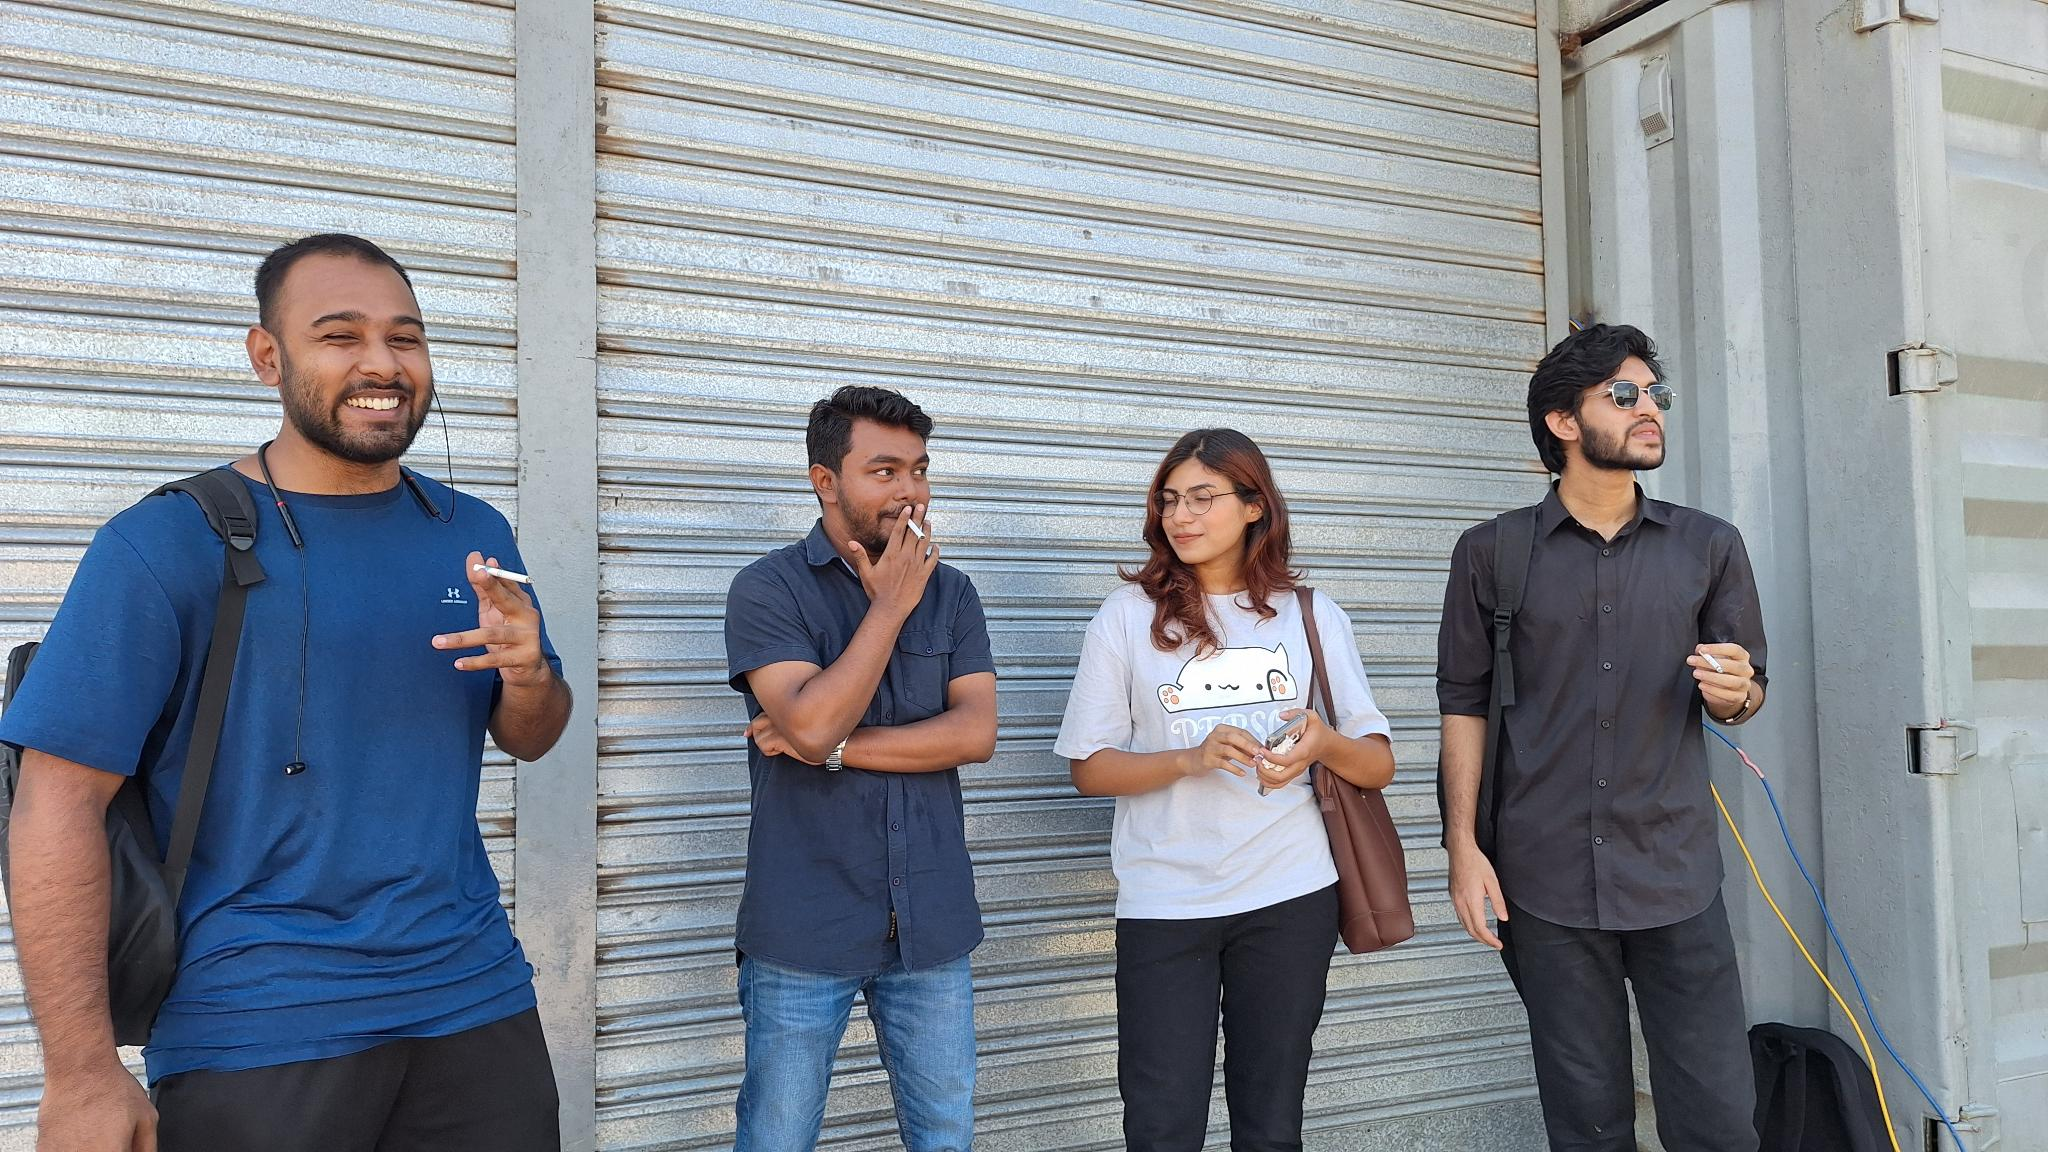cigarette: (470, 561, 537, 587), (1696, 647, 1726, 675), (904, 516, 927, 542)
nonSmoker: (1052, 428, 1416, 1152)
smoker: (0, 231, 574, 1152), (1435, 324, 1769, 1152), (723, 387, 999, 1152)
